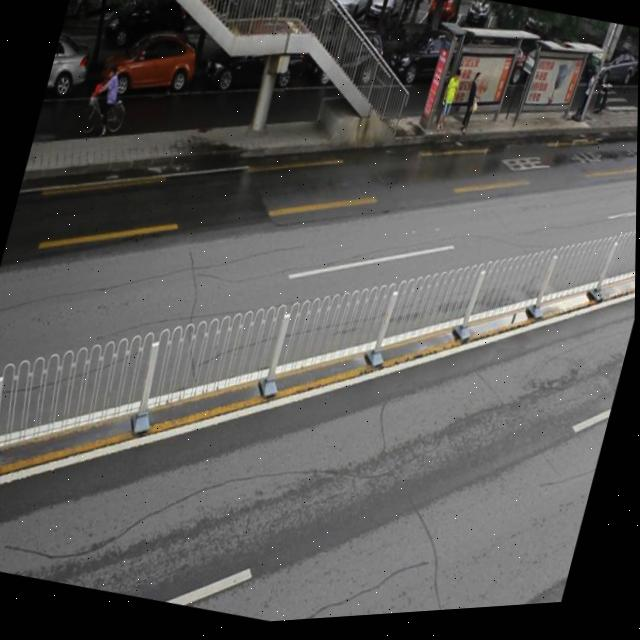car: (97, 18, 202, 111), (195, 27, 305, 115), (304, 19, 386, 102), (385, 26, 467, 106), (44, 33, 94, 105)
